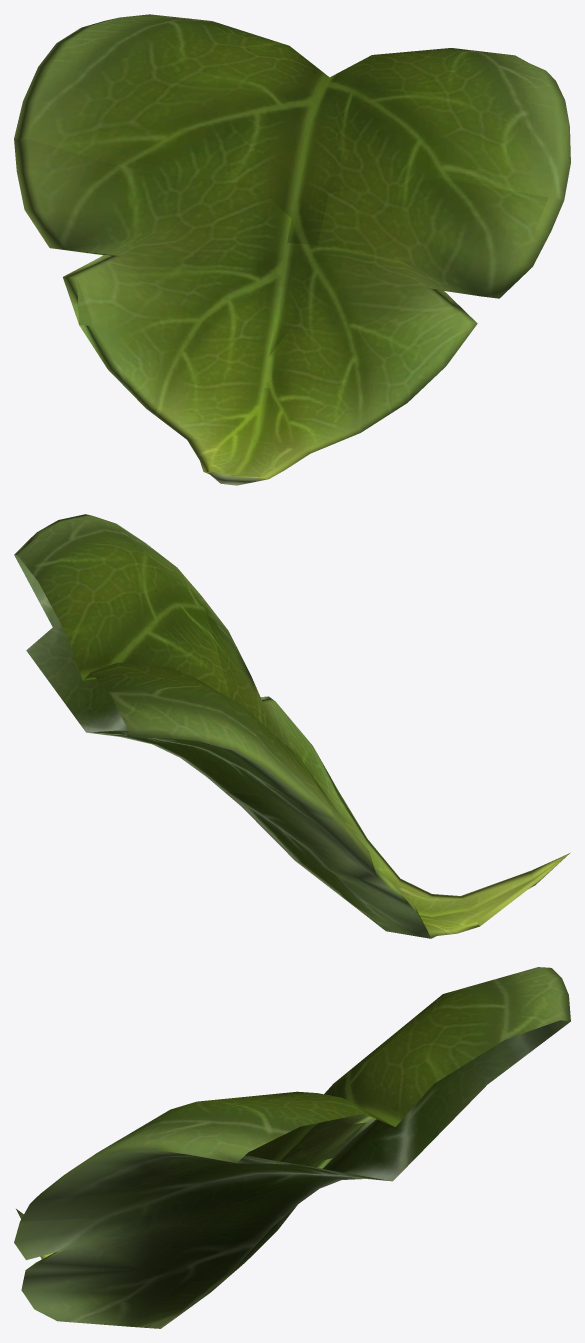
File: sunflower_hoja_del_der.obj
3 renders of one model, top to bottom at view 1: azimuth 30°, elevation 25°; view 2: azimuth 150°, elevation 25°; view 3: azimuth 270°, elevation 25°, orthographic. The views are drawn at different scales.
Parts seen in each view (by area): view 1: sunflower_hoja_del_der; view 2: sunflower_hoja_del_der; view 3: sunflower_hoja_del_der.
Boxes of the visible parts, x1,y1,x2,y2 form: sunflower_hoja_del_der: [14, 14, 570, 485]; sunflower_hoja_del_der: [14, 514, 569, 938]; sunflower_hoja_del_der: [14, 967, 570, 1328].
Bounding box in the file's own units: 0.2368 × 0.1718 × 0.2366.
